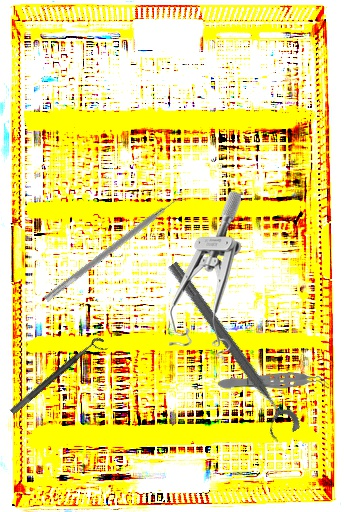Fixation Ring: (153, 257, 304, 446), (9, 334, 110, 423)
Spatula Surgical: (43, 190, 189, 309)
Speculum: (169, 190, 241, 364)
Tissue Forceps: (217, 371, 330, 393)
